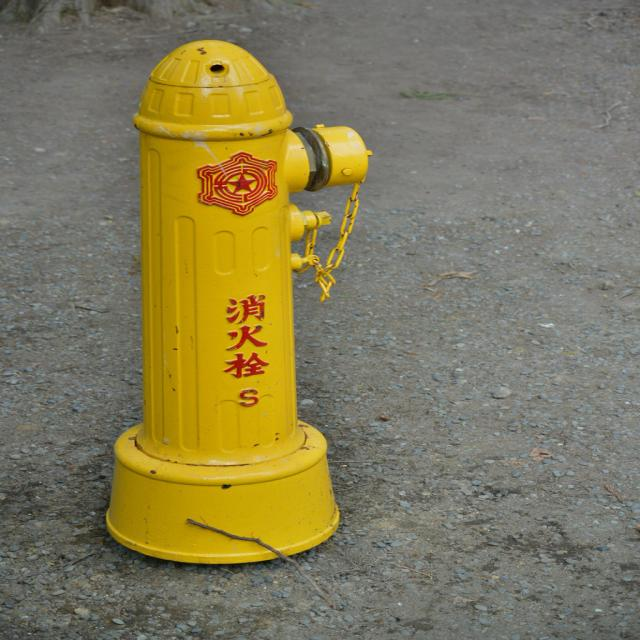fire_hydrant: (98, 39, 375, 562)
